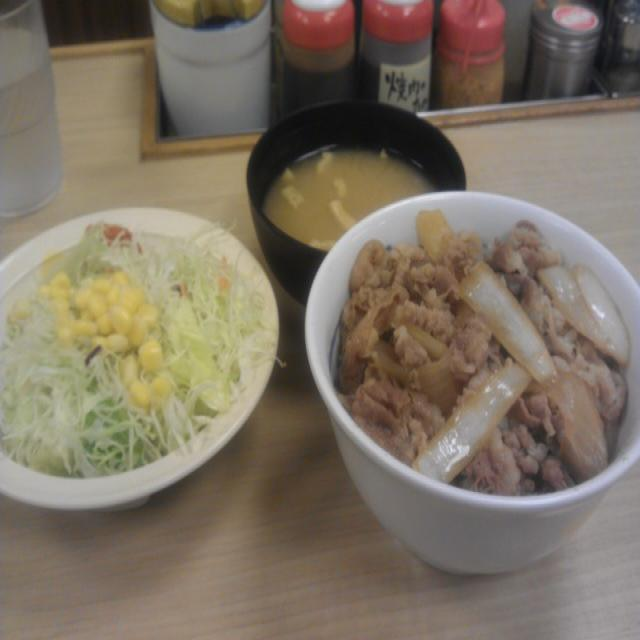Green Salad: (0, 222, 266, 472)
